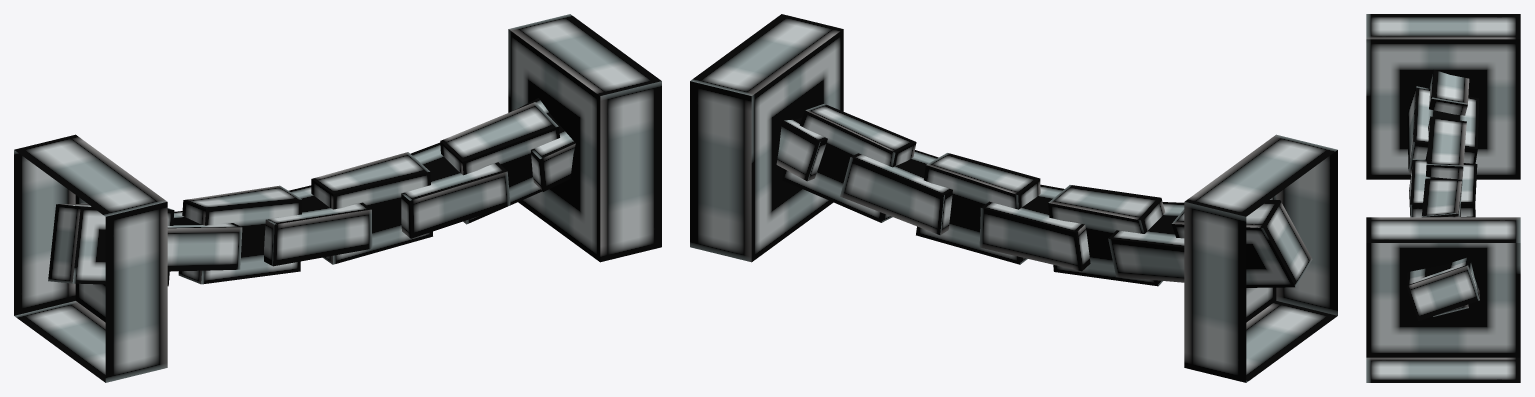
Rendered from deco_winter_short.FBX.
3 renders of one model, left to right at view 1: azimuth 30°, elevation 25°; view 2: azimuth 150°, elevation 25°; view 3: azimuth 270°, elevation 25°, orthographic. The views are drawn at different scales.
Visible parts, largest first — view 1: deco_winter_short; view 2: deco_winter_short; view 3: deco_winter_short.
Part boxes in pixels (bbox=[...]): deco_winter_short: bbox=[14, 14, 661, 382]; deco_winter_short: bbox=[690, 14, 1337, 382]; deco_winter_short: bbox=[1366, 14, 1520, 382].
Bounding box in the file's own units: 1.55 × 0.4281 × 0.4281.
Materials: 1 (1 with a texture image).
